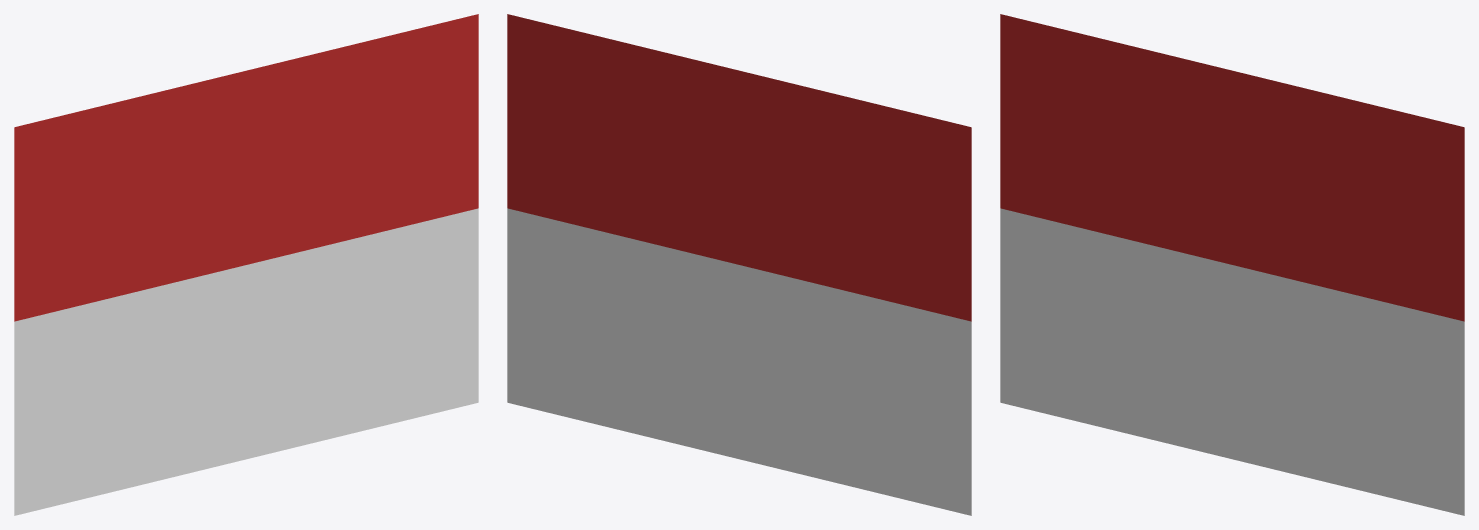
The model's file is flag_monaco.glb.
The picture shows the model from 3 angles, left to right: view 1: azimuth 30°, elevation 25°; view 2: azimuth 150°, elevation 25°; view 3: azimuth 330°, elevation 25°; orthographic projection.
Parts seen in each view (by area): view 1: flag_monaco; view 2: flag_monaco; view 3: flag_monaco.
Part boxes in pixels (x1,y1,x2,y2): flag_monaco: [14, 14, 478, 515]; flag_monaco: [507, 14, 971, 515]; flag_monaco: [1000, 14, 1464, 515].
Size of the model in its own units: 1.82 by 1.45 by 6.35e-08.
1 material, 1 textured.
